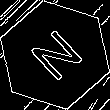N_SE: (22, 23, 88, 87)
